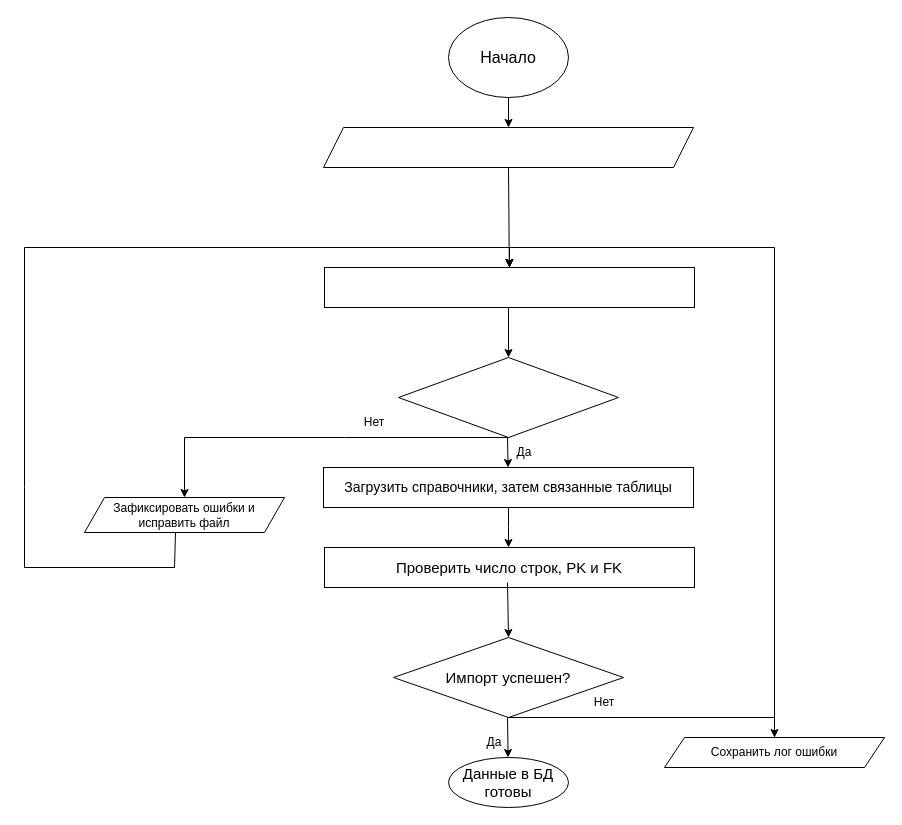
Some shapes in this 902 by 825 pixel diagram are drawn without their labels. The shapes that lost their labels are listed below. From the top down, each one's centre as x and y in pixels, then its label:
the point at 508,147: Получить файлы *_import или CSV
the point at 509,287: Проверить кодировку, обязателные поля и связи
the point at 508,397: Данные корректны
